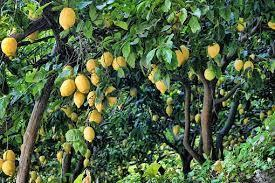lemon: (59, 8, 76, 30), (1, 36, 18, 56), (60, 78, 76, 96), (75, 74, 90, 93), (148, 63, 161, 84), (176, 46, 190, 64), (112, 56, 126, 71), (106, 86, 117, 104), (89, 110, 103, 124), (2, 161, 15, 176), (101, 52, 113, 68), (74, 90, 84, 109), (86, 58, 98, 73), (156, 78, 167, 94), (208, 43, 219, 58), (84, 126, 94, 142), (87, 91, 97, 107), (3, 150, 16, 161), (92, 72, 100, 86), (234, 60, 242, 72), (244, 61, 253, 71), (96, 101, 104, 112), (268, 19, 275, 30), (0, 158, 3, 172)
